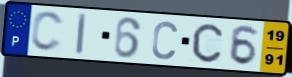6: (227, 24, 260, 67), (113, 15, 143, 59)
C: (29, 10, 66, 54), (191, 22, 225, 64), (150, 20, 179, 61)
I: (74, 12, 88, 57)
